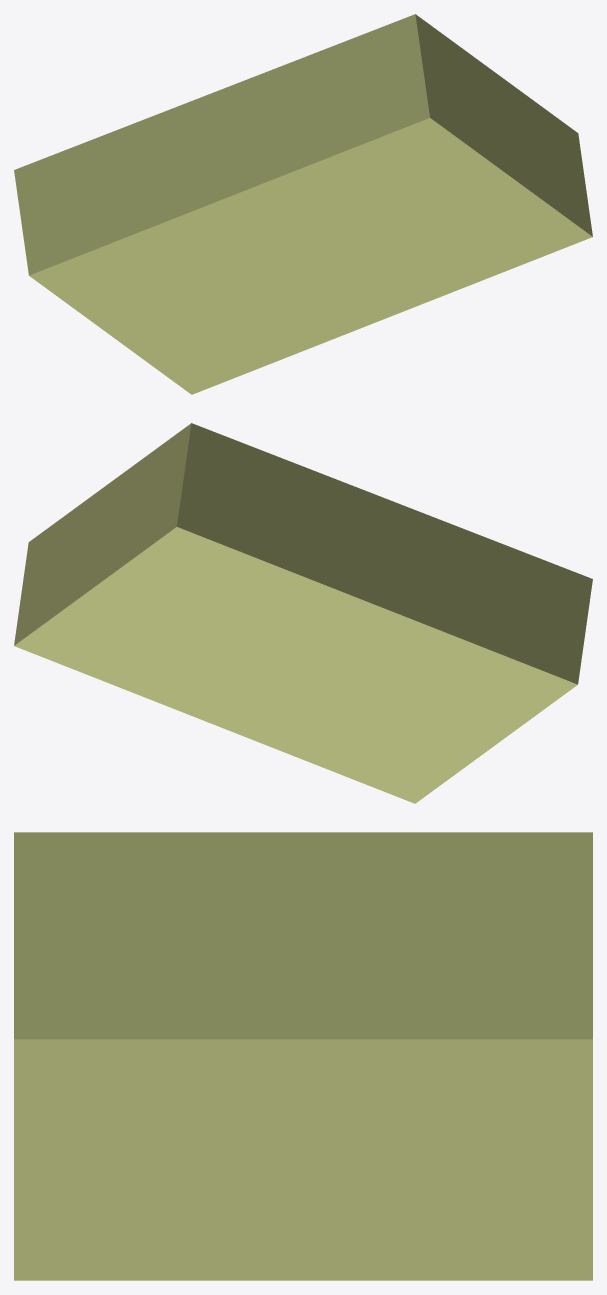
3 views of the same model, one above another, from view 1: azimuth 30°, elevation 25°; view 2: azimuth 150°, elevation 25°; view 3: azimuth 270°, elevation 25° (orthographic). The views are drawn at different scales.
Parts seen in each view (by area): view 1: 0_1_3_2_1_1_1_3_2_0; view 2: 0_1_3_2_1_1_1_3_2_0; view 3: 0_1_3_2_1_1_1_3_2_0.
Boxes of the visible parts, x1,y1,x2,y2 form: 0_1_3_2_1_1_1_3_2_0: (14, 14, 592, 394); 0_1_3_2_1_1_1_3_2_0: (14, 423, 592, 803); 0_1_3_2_1_1_1_3_2_0: (14, 832, 592, 1280).
Bounding box in the file's own units: 13.27 × 5.1 × 9.
